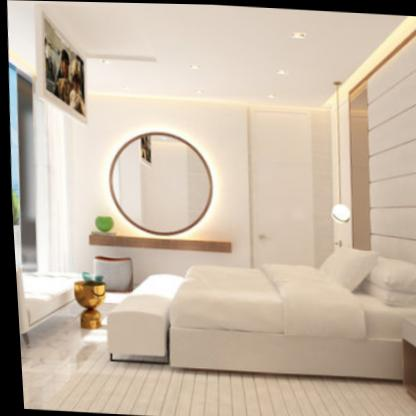Bed: (159, 231, 416, 384)
Wall Panel: (57, 92, 333, 274)
